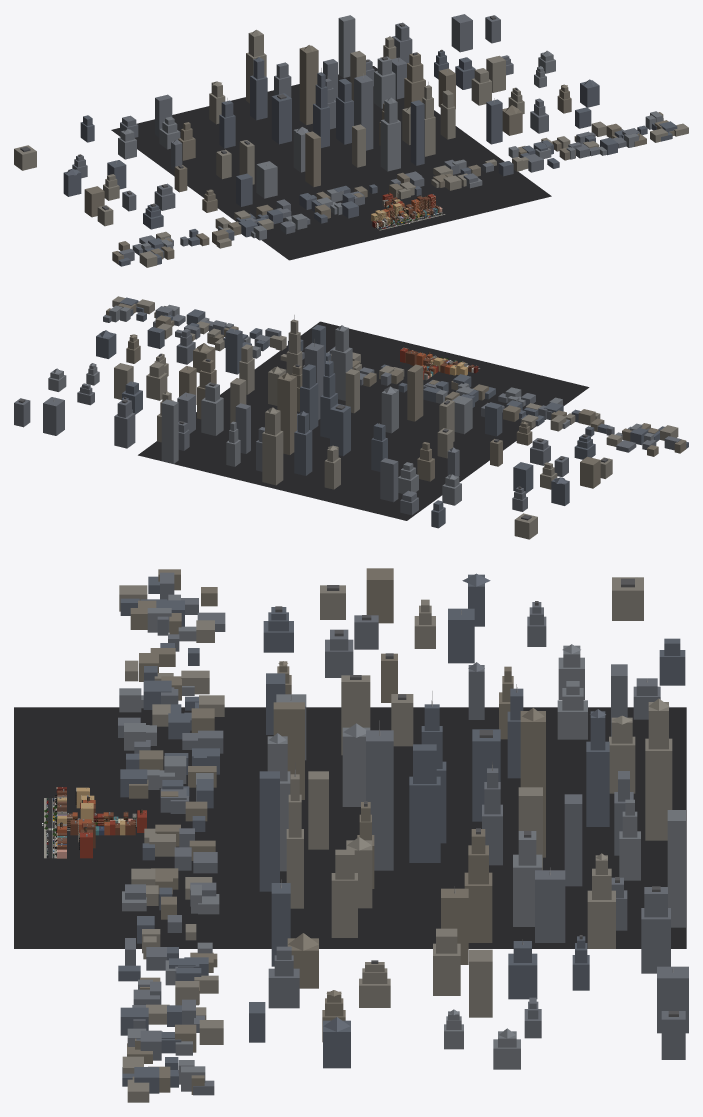
Rendered from street.glb.
3 views of the same model, one above another, from view 1: azimuth 30°, elevation 25°; view 2: azimuth 150°, elevation 25°; view 3: azimuth 270°, elevation 25° (orthographic). The views are drawn at different scales.
Visible parts, largest first — view 1: Skyline, Ground, Buildings; view 2: Skyline, Ground, Buildings; view 3: Skyline, Ground, Buildings.
Part boxes in pixels (box(x1,y1,x2,y2)): Skyline: box(14, 14, 688, 267); Ground: box(111, 66, 551, 260); Buildings: box(371, 192, 442, 228); Skyline: box(14, 296, 688, 539); Ground: box(138, 321, 589, 520); Buildings: box(400, 347, 478, 380); Skyline: box(118, 568, 688, 1102); Ground: box(14, 707, 686, 948); Buildings: box(54, 787, 146, 858).
Size of the model in its own units: 1712 by 229 by 943.
35 materials, 1 textured.
